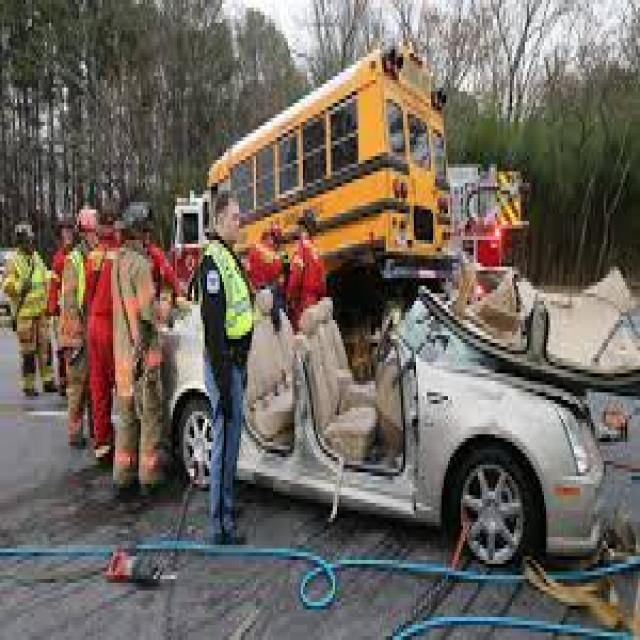accident: (141, 29, 640, 606)
